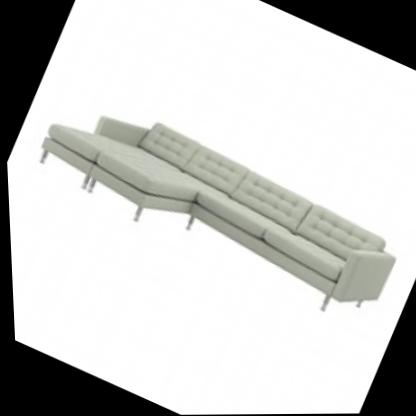Sofa: (11, 68, 416, 342)
